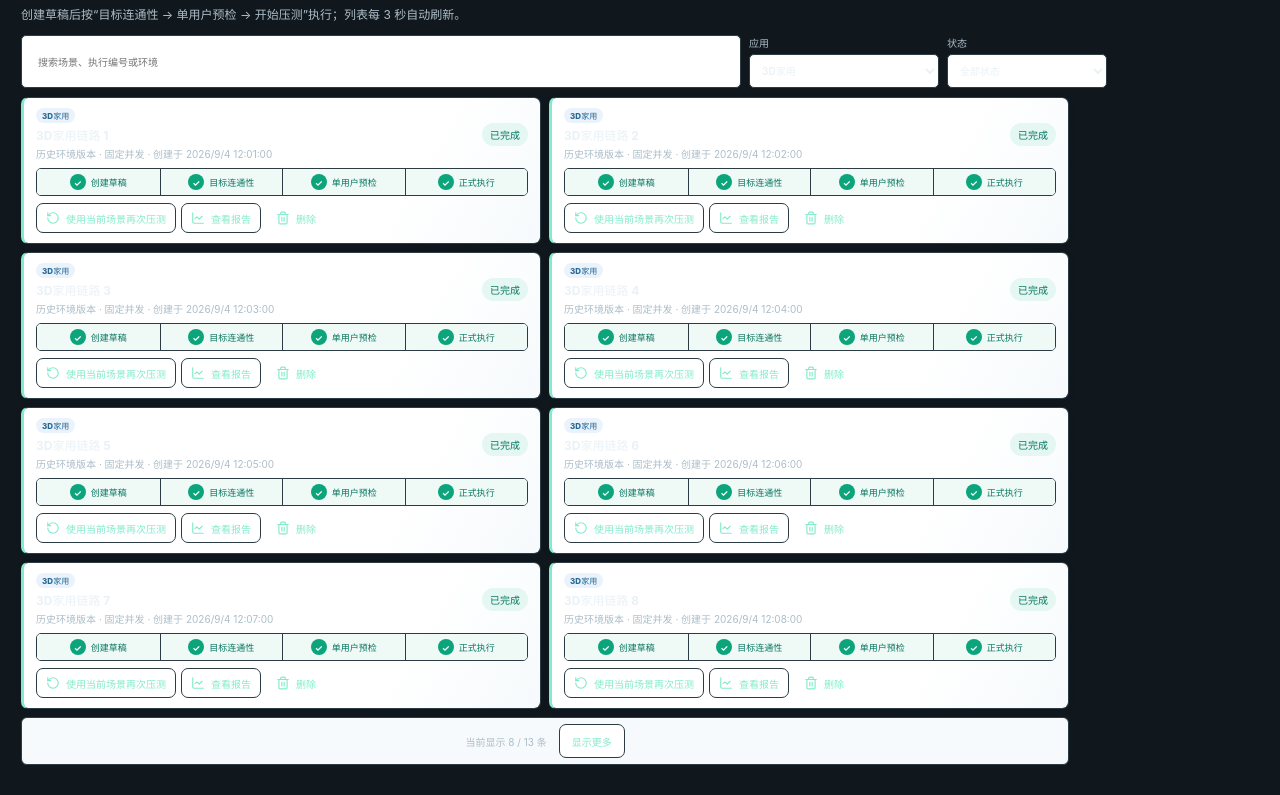
Test: LoadRunsView › defaults to the current application, filters other applications and limits the first history batch
(page scrolled)
Expected: the dropdown with test id "load-run-application" shows "3D家用", [749,54,939,88]
Click the button with test id "load-run-more".
click(592, 741)  # box [559,724,625,758]
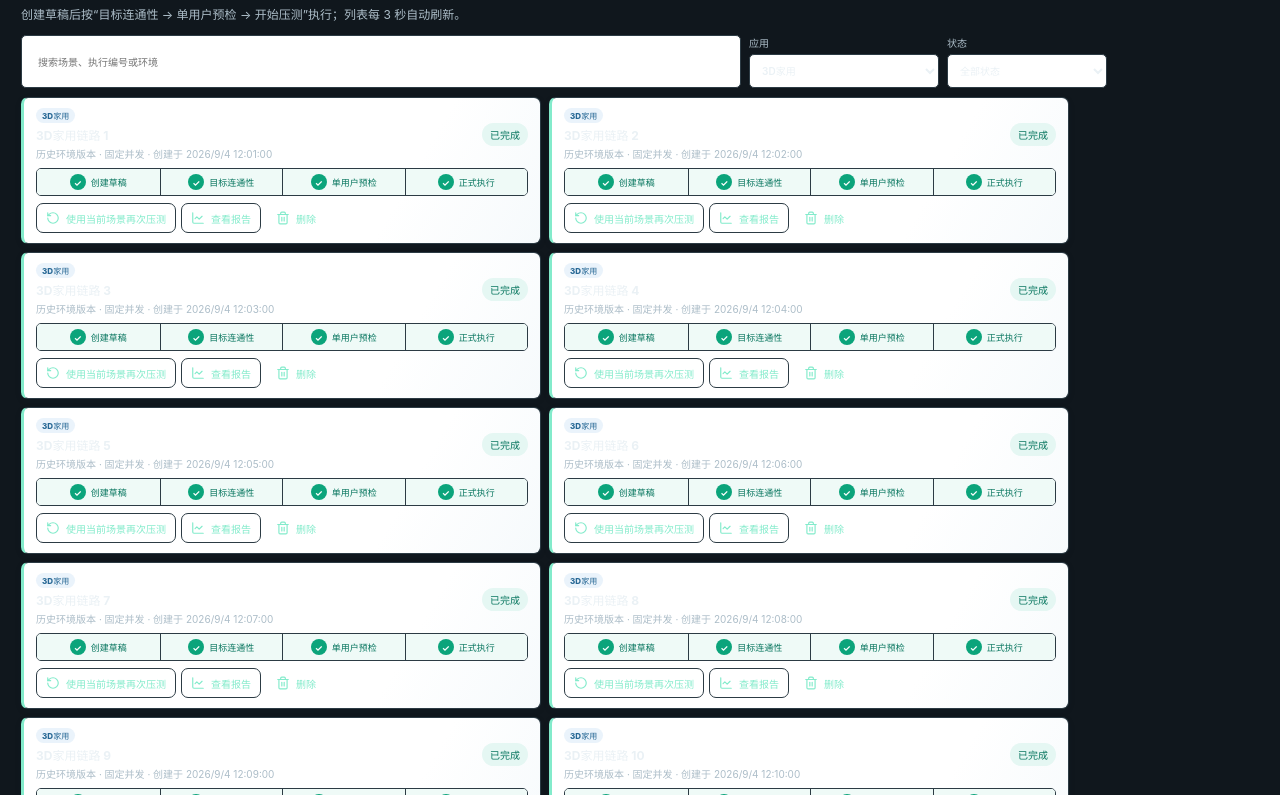
Select "共享商城" in the dropdown with test id "load-run-application" at (844, 71), box [749,54,939,88]
(page scrolled)
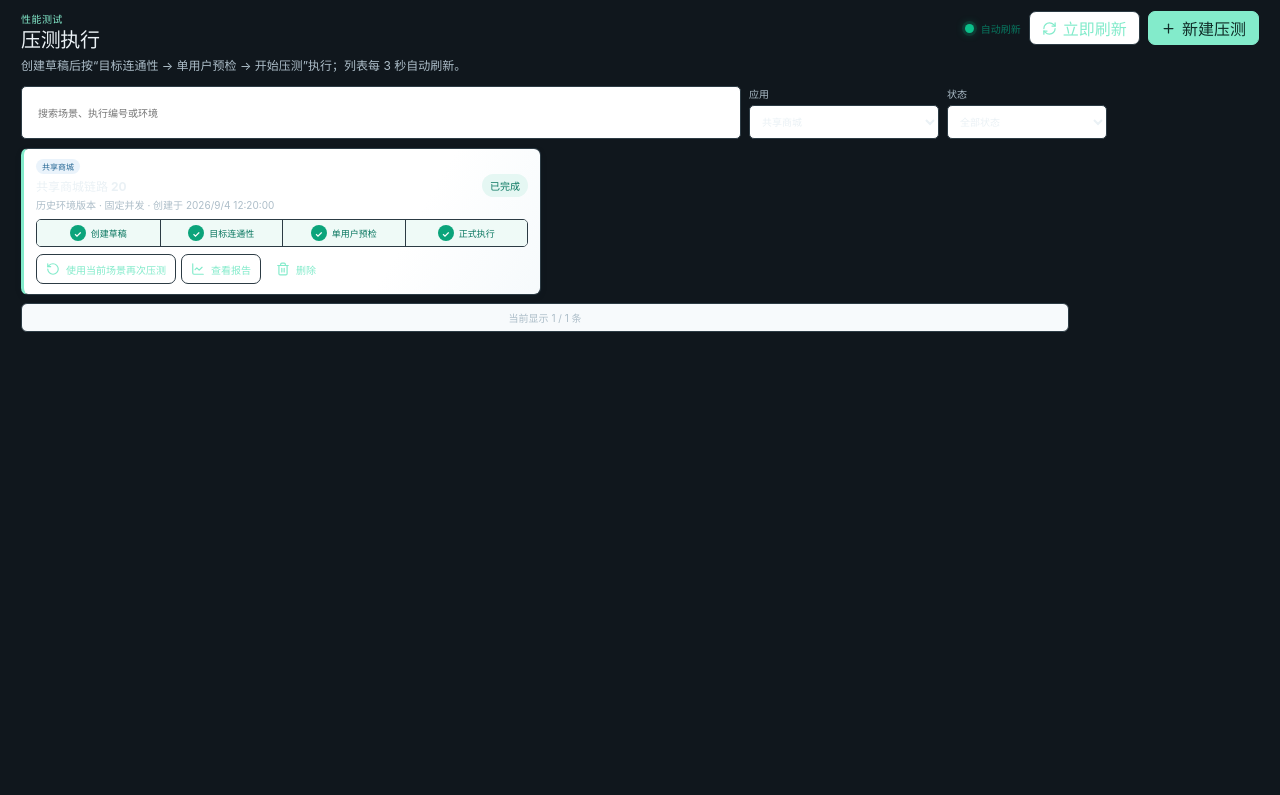
Expected: the text "3D家用链路 1" is gone
